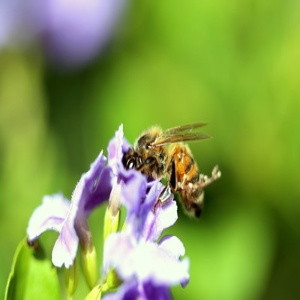bee: (122, 120, 220, 220)
